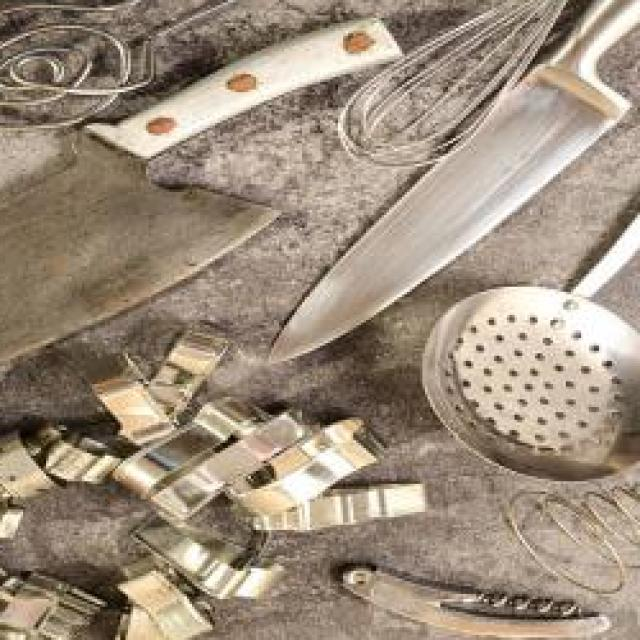knife: (0, 11, 404, 415), (256, 0, 640, 371)
